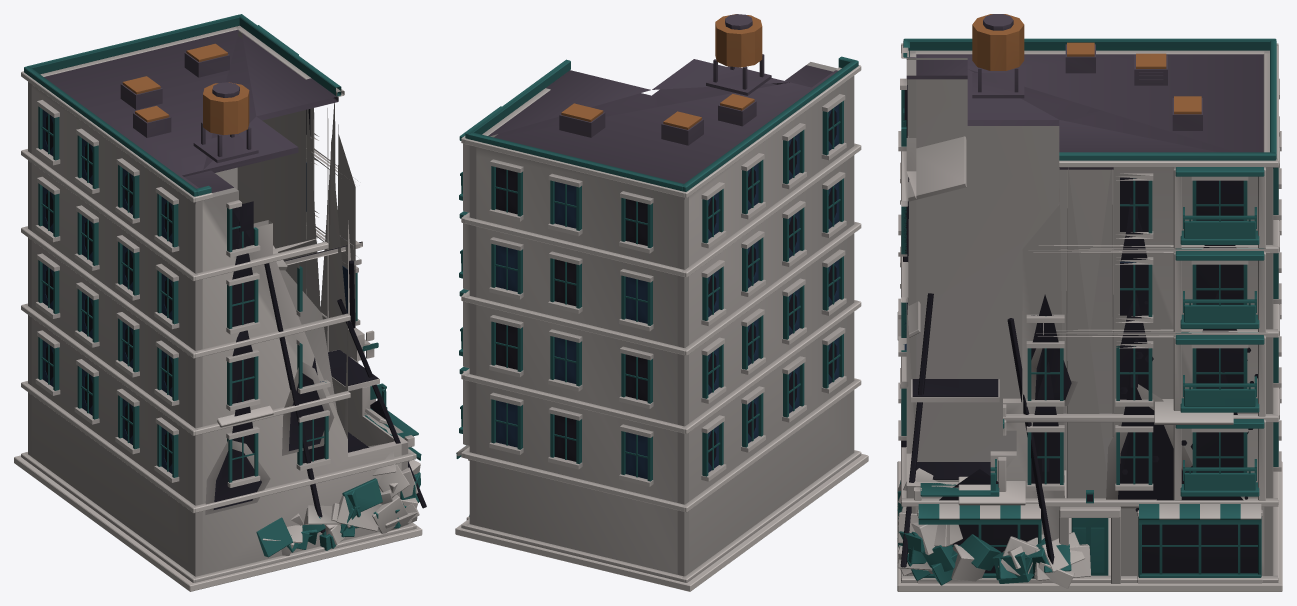
Rendered from bld.apartment-block-b.w6.glb.
The picture shows the model from 3 angles, left to right: view 1: azimuth 30°, elevation 25°; view 2: azimuth 150°, elevation 25°; view 3: azimuth 270°, elevation 25°; orthographic projection. The views are drawn at different scales.
Visible parts, largest first — view 1: body, roof; view 2: body, roof; view 3: body, roof, door_front.
Part boxes in pixels (x1,y1,x2,y2): body: (14, 14, 426, 591); roof: (44, 30, 338, 203); body: (455, 56, 868, 591); roof: (488, 14, 837, 199); body: (897, 38, 1282, 591); roof: (906, 14, 1273, 169); door_front: (1071, 518, 1108, 575).
Bounding box in the file's own units: 10 × 17.76 × 12.6.
